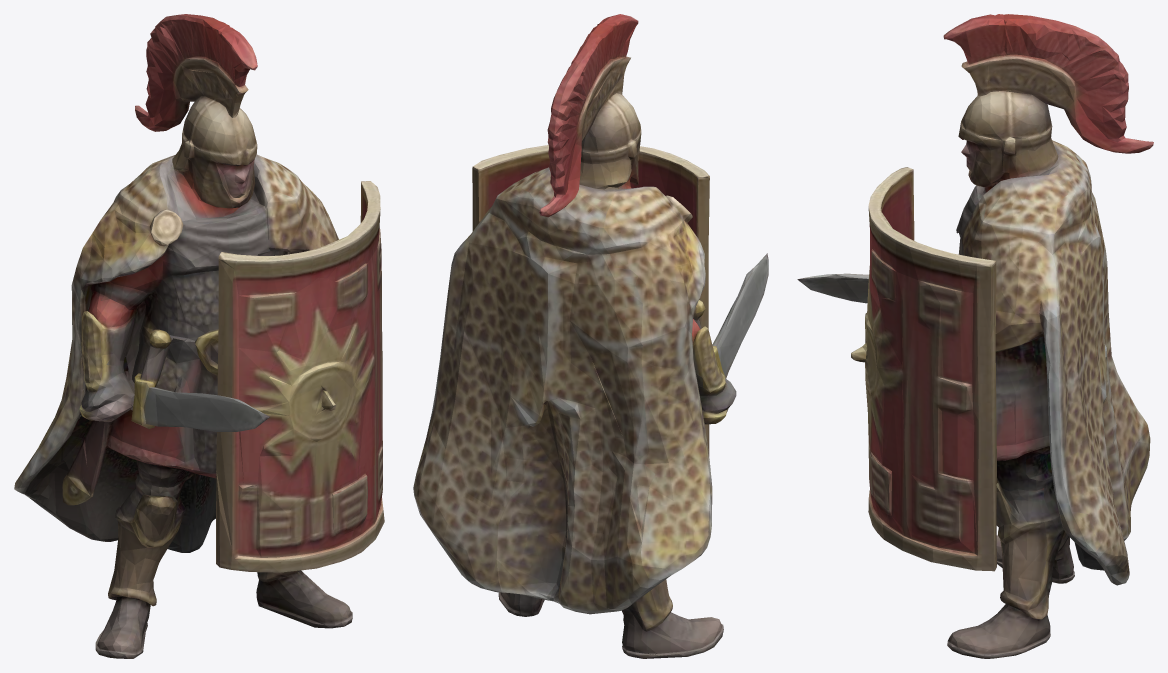
Rendered from raidShieldbearer.glb.
3 views of the same model, side by side, from view 1: azimuth 30°, elevation 25°; view 2: azimuth 150°, elevation 25°; view 3: azimuth 270°, elevation 25° (orthographic). The views are drawn at different scales.
Parts seen in each view (by area): view 1: world; view 2: world; view 3: world.
Boxes of the visible parts, box(x1,y1,x2,y2) form: world: box(14, 14, 384, 658); world: box(413, 14, 768, 658); world: box(797, 14, 1153, 658).
Size of the model in its own units: 0.5269 by 0.9996 by 0.5477.
Materials: 1 (1 with a texture image).
